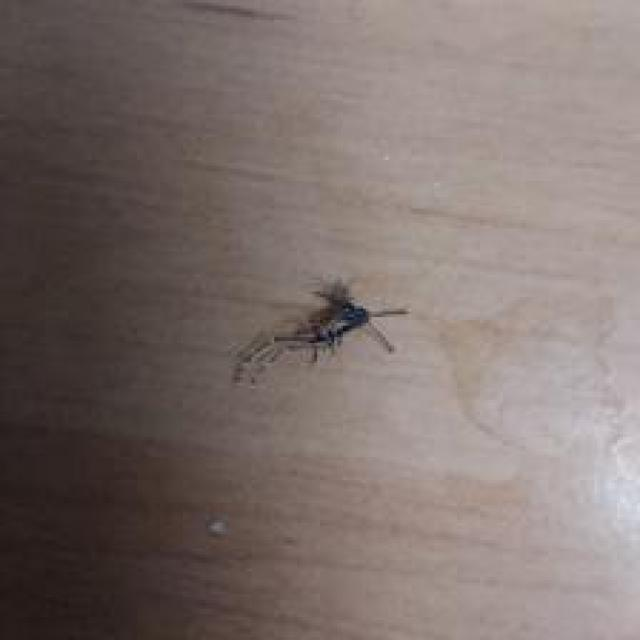Aedes albopictus: (230, 273, 410, 387)
